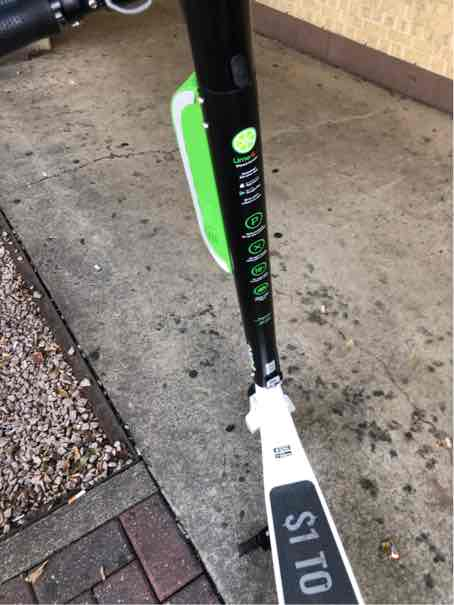scooter: (5, 9, 439, 605)
